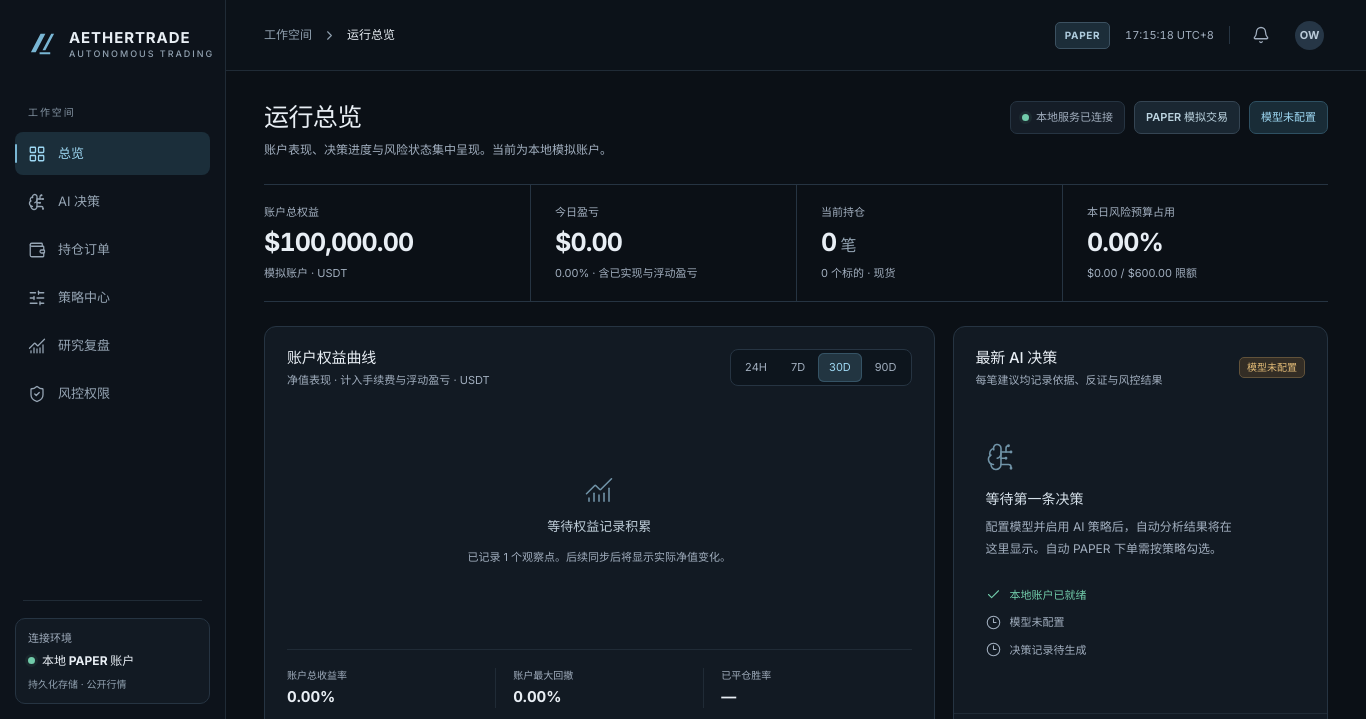
Scenario: runtime session and empty states › shows truthful empty account and all six navigation destinations
Check: the heading "运行总览" is shown, box [264, 102, 362, 132]
Check: the text "等待权益记录积累" is shown, box [547, 517, 651, 536]
Click the button "策略中心". click: click(112, 298)
box: [15, 276, 210, 319]
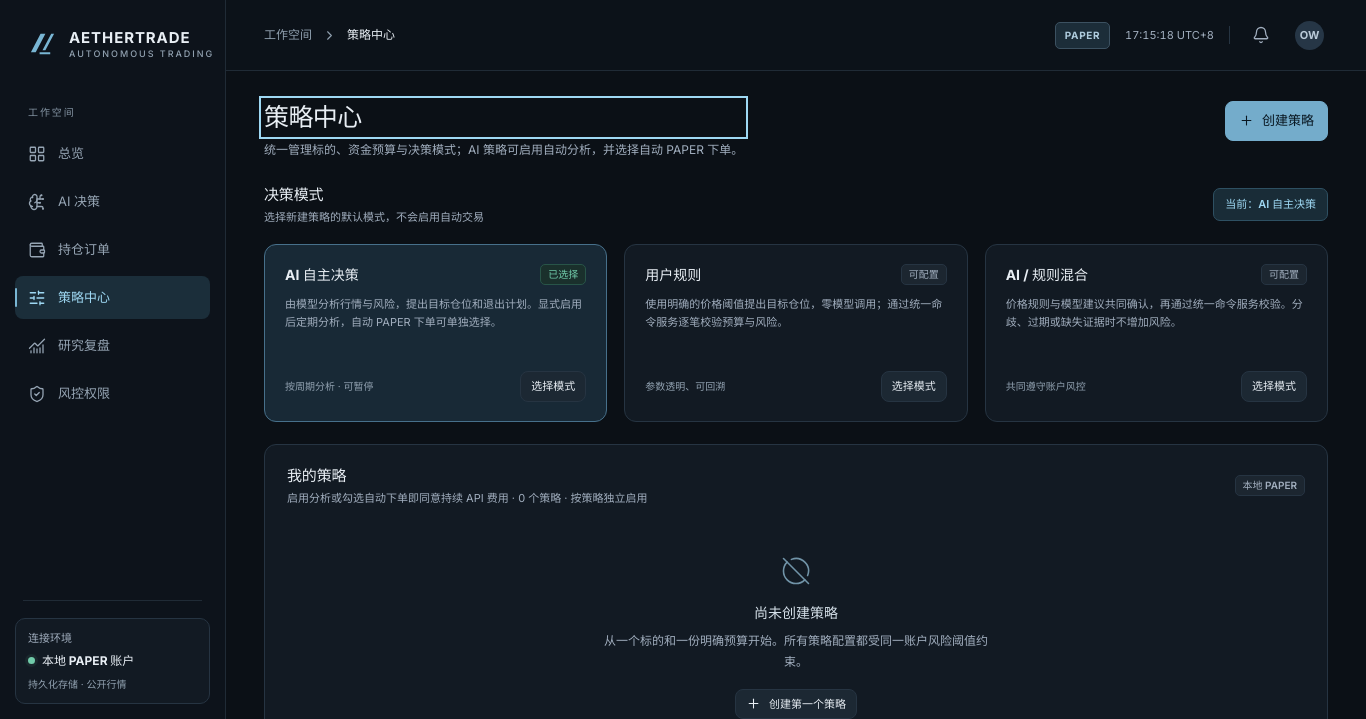
Check: the heading "尚未创建策略" is shown, box [754, 602, 838, 622]
Click the button "研究复盘". click: click(112, 346)
box: [15, 324, 210, 367]
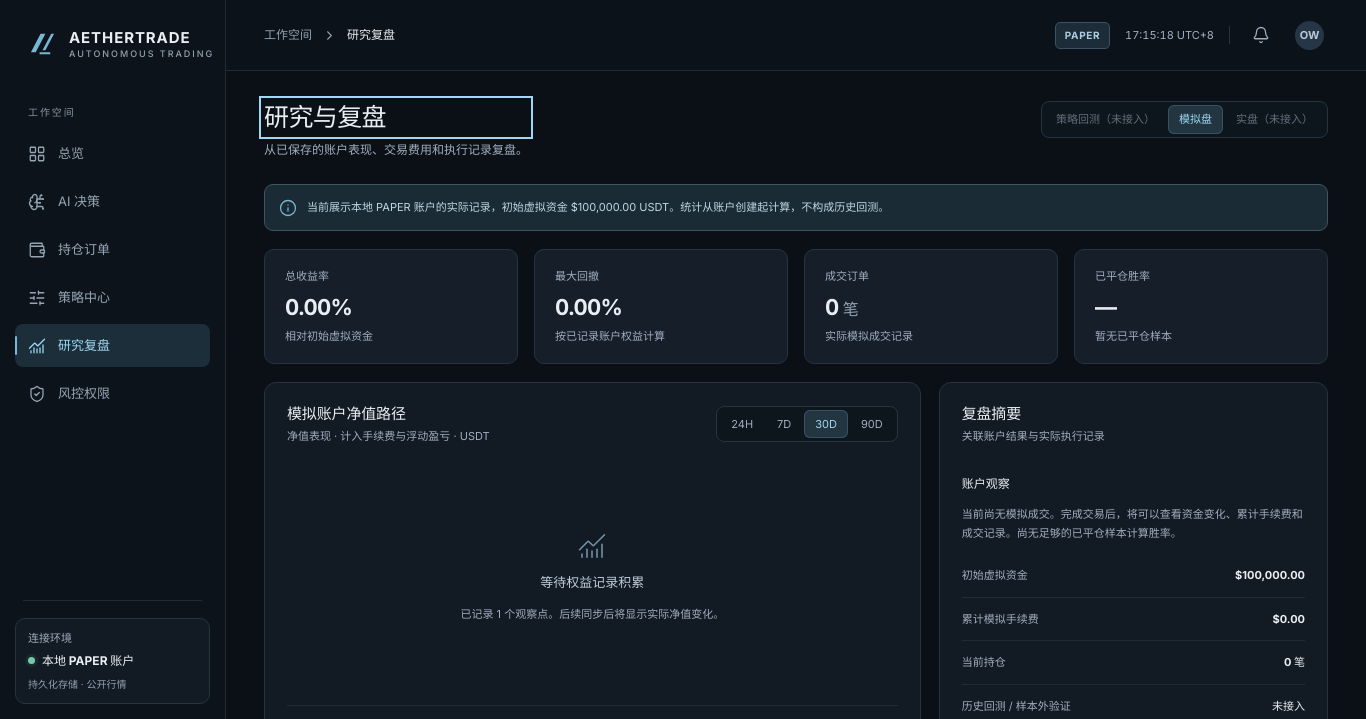
Check: the heading "研究与复盘" is shown, box [264, 102, 386, 132]
